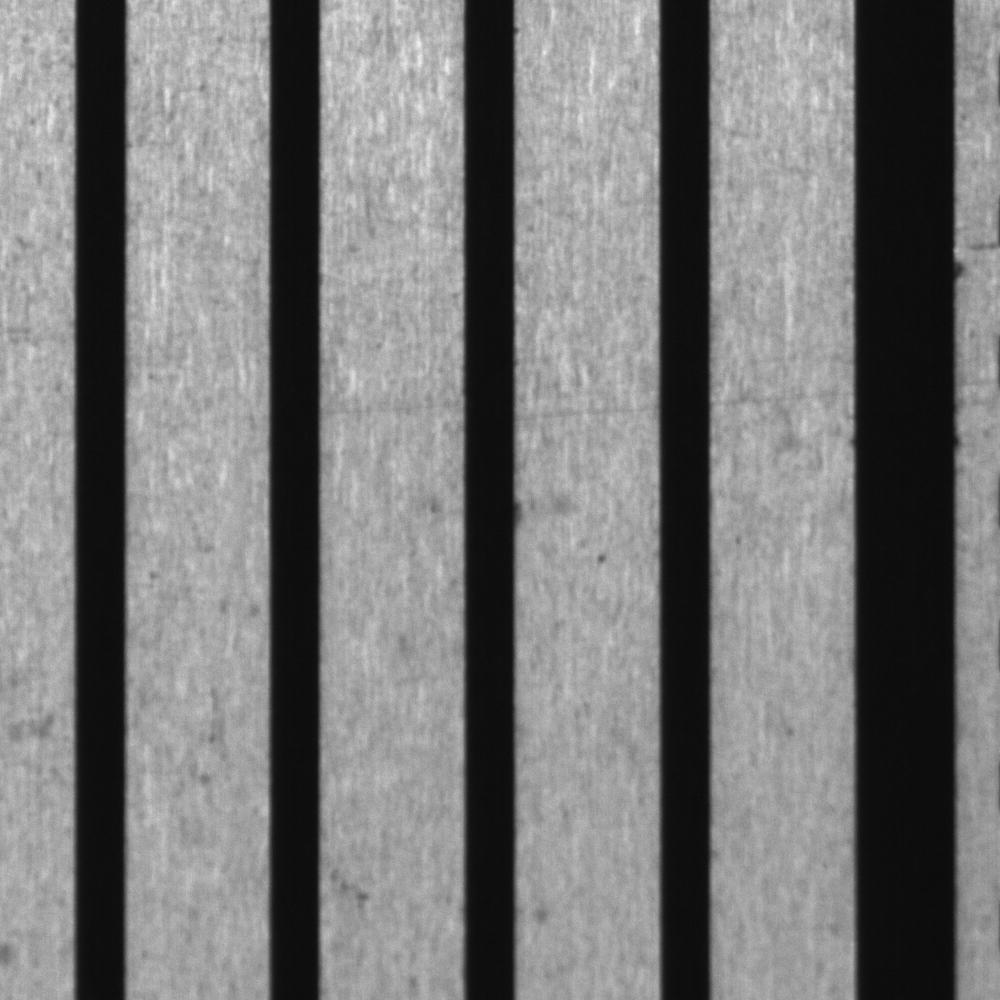Etching: (1, 679, 73, 815), (177, 676, 236, 814), (322, 846, 381, 935), (954, 211, 998, 320), (401, 466, 463, 541), (511, 487, 601, 532)
Pinhole: (137, 552, 174, 594), (583, 541, 620, 576), (723, 526, 753, 554), (775, 716, 803, 745)
Scar: (712, 375, 854, 416), (515, 394, 660, 432), (319, 392, 464, 427)
